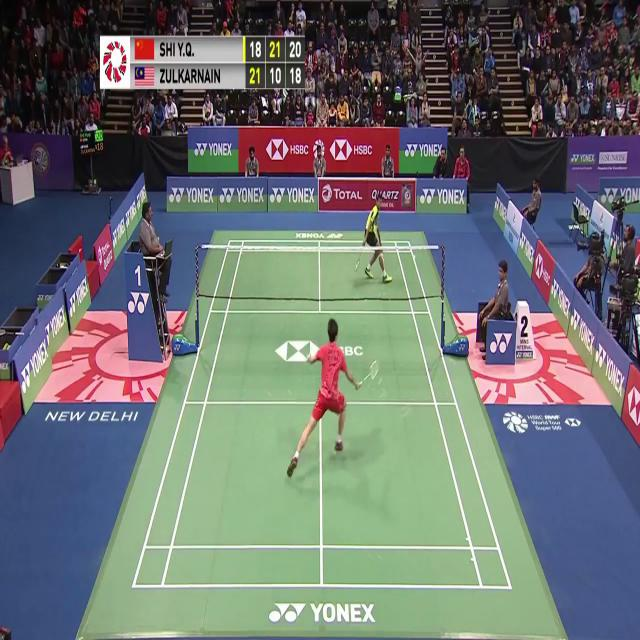Shuttlecock: (411, 250, 418, 262)
